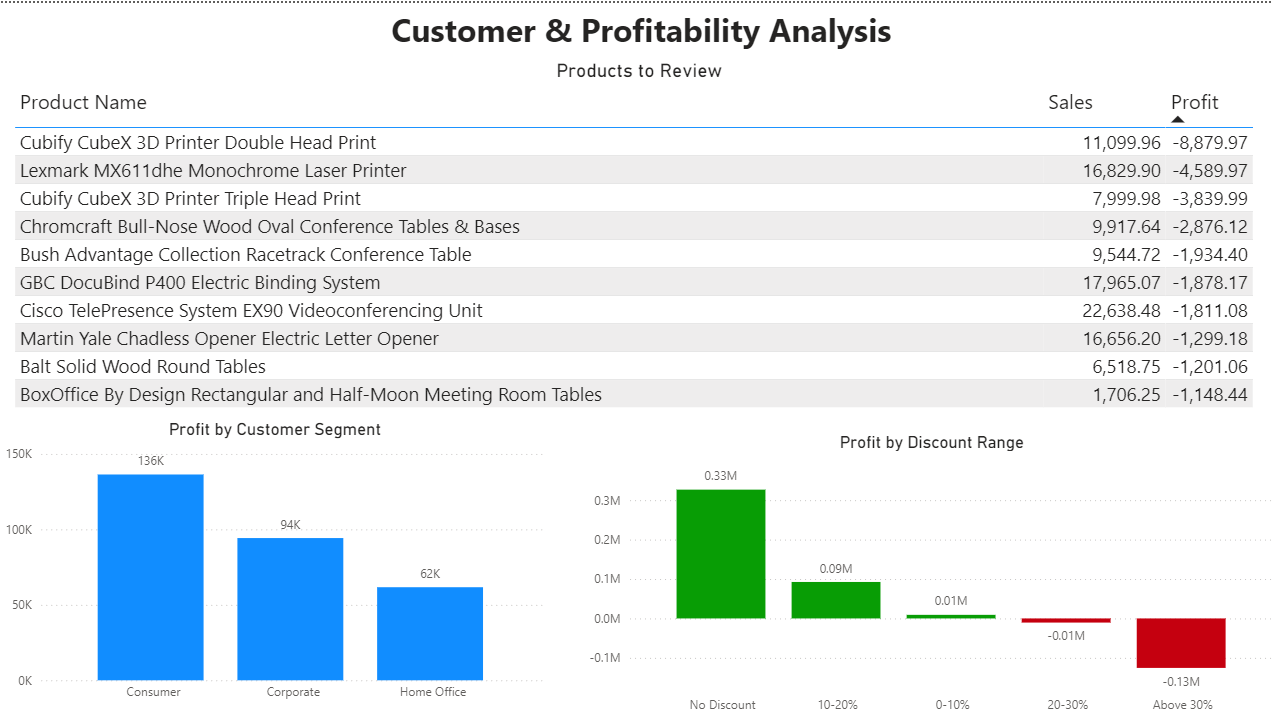

The page's visual inventory and layout, read from the dashboard file:
{"tool":"powerbi","page":{"name":"Page 2","canvas":[1280,720],"ordinal":1},"visuals":[{"type":"textbox","box":[406.2,0,466.2,56.2],"z":0},{"type":"clusteredColumnChart","title":"Profit by Customer Segment","fields":{"Category":["customer_segment_performance.segment"],"Y":["Sum(customer_segment_performance.total_profit)"]},"box":[0,416.2,550,291.2],"z":1},{"type":"clusteredColumnChart","title":"Profit by Discount Range","fields":{"Category":["discount_analysis.discount_range"],"Y":["Sum(discount_analysis.total_profit)"]},"box":[583.8,416.2,696.2,291.2],"z":2},{"type":"tableEx","title":"Products to Review","fields":{"Values":["products_to_review.product_name","Sum(products_to_review.total_sales)","Sum(products_to_review.total_profit)"]},"box":[8.8,56.2,1261.2,360],"z":3}]}

Visuals, with their boxes in screenshot pixels (x1, y1, x2, y2), scaled from the page's 1280x720 canvas onto the 1272x720 screenshot:
textbox: <region>404, 0, 867, 56</region>
"Profit by Customer Segment" clusteredColumnChart: <region>0, 416, 547, 707</region>
"Profit by Discount Range" clusteredColumnChart: <region>580, 416, 1271, 707</region>
"Products to Review" tableEx: <region>9, 56, 1262, 416</region>
